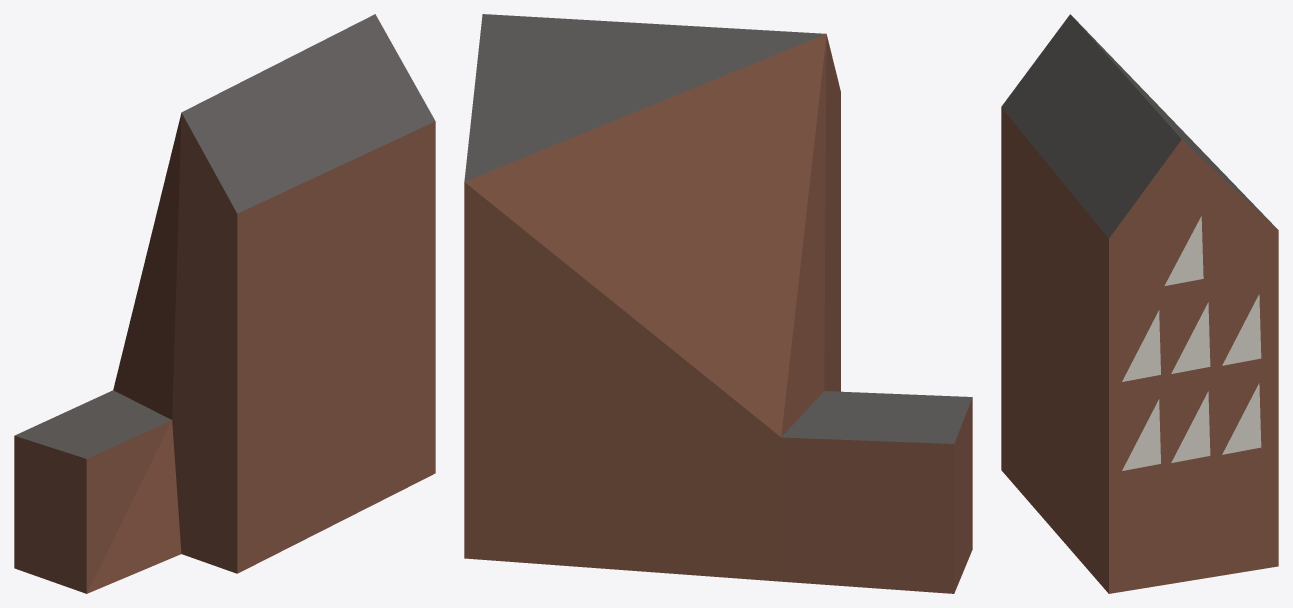
File: theo-thijssen-museum.lod2.glb
3 renders of one model, left to right at view 1: azimuth 30°, elevation 25°; view 2: azimuth 150°, elevation 25°; view 3: azimuth 270°, elevation 25°, orthographic. The views are drawn at different scales.
Parts seen in each view (by area): view 1: lod2; view 2: lod2; view 3: lod2.
Boxes of the visible parts, x1,y1,x2,y2 form: lod2: (14,14,435,593); lod2: (464,14,972,593); lod2: (1001,14,1278,593).
Bounding box in the file's own units: 13.23 × 13.51 × 7.63.
